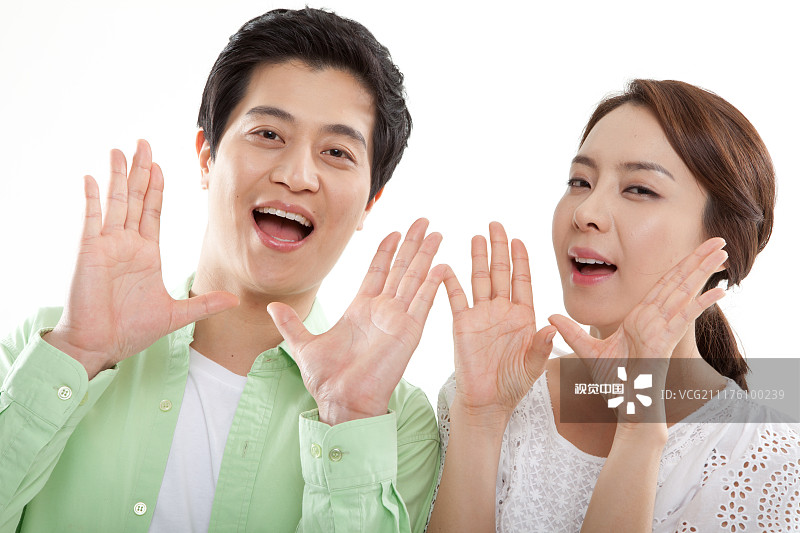no-phone: (549, 210, 756, 441), (55, 125, 249, 368), (262, 203, 450, 419), (437, 215, 563, 426)
